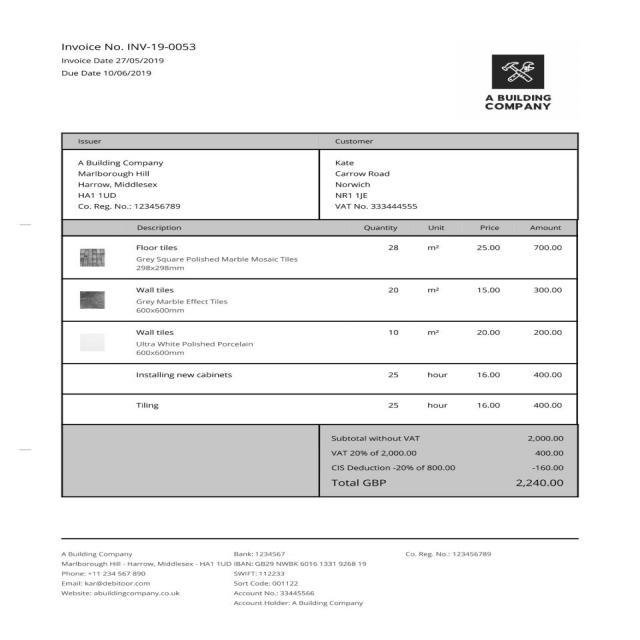customer_address: (330, 171, 427, 199)
customer_name: (329, 154, 400, 168)
due_date: (103, 67, 163, 79)
invoice_date: (114, 56, 184, 66)
invoice_number: (124, 39, 208, 53)
invoice_subtotal: (514, 427, 576, 445)
invoice_total: (474, 476, 574, 495)
item_description: (130, 241, 303, 418)
item_quantity: (369, 241, 408, 415)
item_total_price: (524, 239, 574, 416)
item_unit_price: (462, 238, 508, 416)
supplier_address: (72, 171, 190, 200)
supplier_name: (72, 157, 172, 167)
tax_amount: (530, 448, 570, 458)
